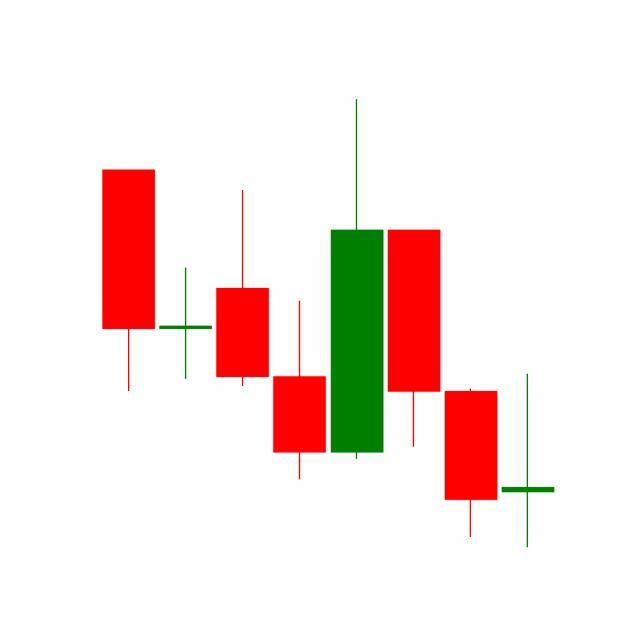Hikkake Pattern: (214, 99, 501, 542)
